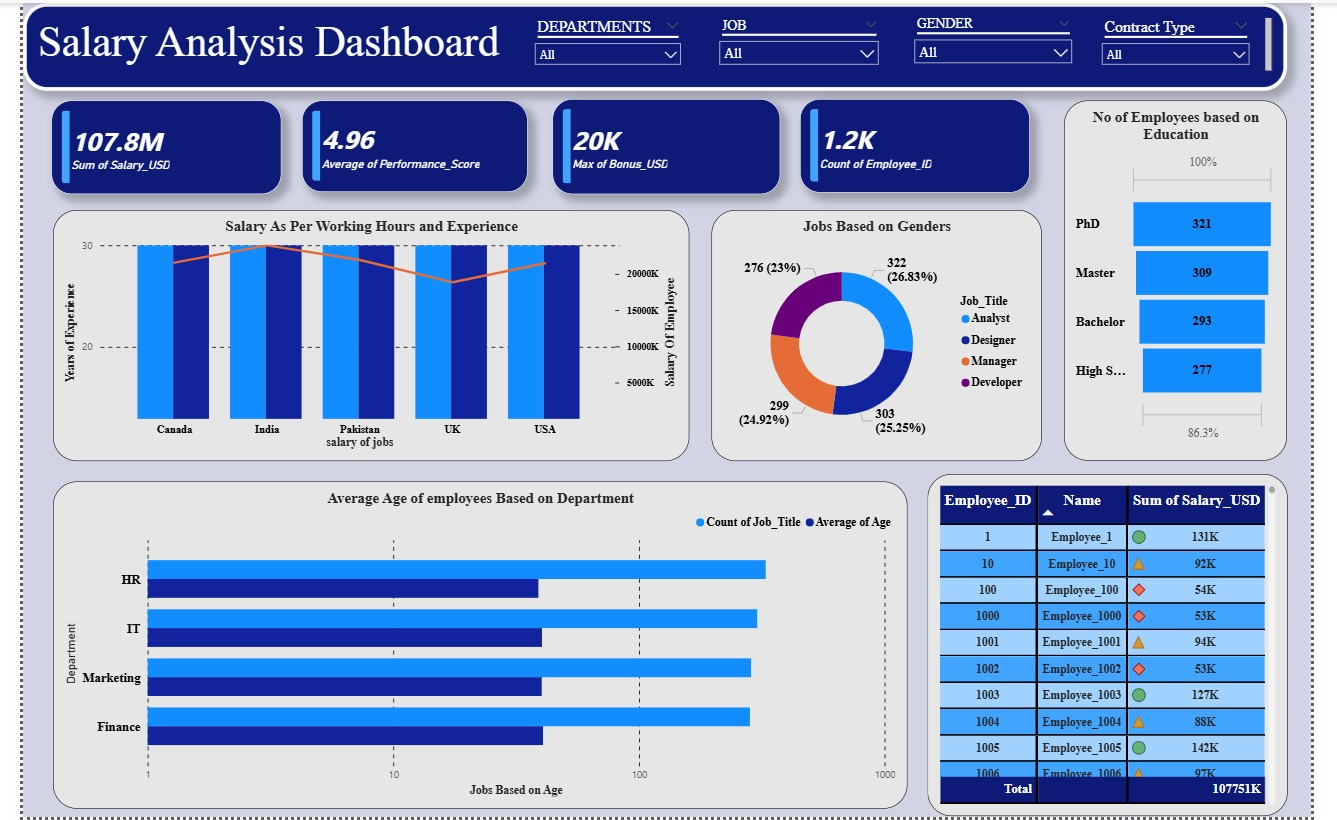

The dashboard page shown, as its layout file describes it:
{"tool":"powerbi","page":{"name":"dashboards","canvas":[1613,1020],"ordinal":0},"visuals":[{"type":"textbox","box":[0,0,1583.9,109.7],"z":0},{"type":"slicer","fields":{"Values":["Salary_Dataset.Department"]},"box":[631.5,12.4,202.9,76.6],"z":1000},{"type":"slicer","fields":{"Values":["Salary_Dataset.Job_Title"]},"box":[863.4,12.4,219.5,76.6],"z":2000},{"type":"lineClusteredColumnComboChart","title":"Salary As Per Working Hours and Experience","fields":{"Category":["Salary_Dataset.Country"],"Y2":["Sum(Salary_Dataset.Salary_USD)"],"Y":["Count(Salary_Dataset.Work_Hours_Per_Week)","CountNonNull(Salary_Dataset.Experience_Years)"]},"box":[37.3,258.8,797.1,314.7],"z":3000},{"type":"slicer","fields":{"Values":["Salary_Dataset.Gender"]},"box":[1107.7,10.4,217.4,76.6],"z":4000},{"type":"donutChart","title":"Jobs Based on Genders","fields":{"Category":["Salary_Dataset.Job_Title"],"Y":["CountNonNull(Salary_Dataset.Gender)"]},"box":[863.4,258.8,414.1,314.7],"z":5000},{"type":"slicer","fields":{"Values":["Salary_Dataset.Contract_Type"]},"box":[1341.6,12.4,205,74.5],"z":6000},{"type":"clusteredBarChart","title":"Average Age of employees Based on Department","fields":{"Y":["CountNonNull(Salary_Dataset.Job_Title)","Avg(Salary_Dataset.Age)"],"Category":["Salary_Dataset.Department"]},"box":[37.3,600.4,1070.4,409.9],"z":8000},{"type":"tableEx","fields":{"Values":["Salary_Dataset.Employee_ID","Salary_Dataset.Name","Sum(Salary_Dataset.Salary_USD)"]},"box":[1132.5,590.1,451.3,428.6],"z":9000},{"type":"cardVisual","title":"Total Salary","fields":{"Data":["Sum(Salary_Dataset.Salary_USD)"]},"box":[36.6,122,287.8,117.1],"z":10000},{"type":"cardVisual","title":"Total Salary","fields":{"Data":["Avg(Salary_Dataset.Performance_Score)"]},"box":[348.8,122,282.9,114.6],"z":12000},{"type":"cardVisual","title":"Total Salary","fields":{"Data":["Max(Salary_Dataset.Bonus_USD)"]},"box":[663.4,119.5,285.4,119.5],"z":13000},{"type":"cardVisual","title":"Total Salary","fields":{"Data":["CountNonNull(Salary_Dataset.Employee_ID)"]},"box":[973.2,119.5,287.8,117.1],"z":14000},{"type":"funnel","title":"No of Employees based on Education","fields":{"Category":["Salary_Dataset.Education"],"Y":["CountNonNull(Salary_Dataset.Employee_ID)"]},"box":[1304.4,122.2,279.5,451.3],"z":15000}]}

Visuals, with their boxes on the page's 1613x1020 design canvas (x1, y1, x2, y2). These are canvas units, not pixel positions in the 1337x820 screenshot, which may show the page scaled, cropped or inside an application window:
textbox: 0/0/1584/110
slicer - Salary_Dataset.Department: 632/12/834/89
slicer - Salary_Dataset.Job_Title: 863/12/1083/89
"Salary As Per Working Hours and Experience" lineClusteredColumnComboChart: 37/259/834/574
slicer - Salary_Dataset.Gender: 1108/10/1325/87
"Jobs Based on Genders" donutChart: 863/259/1278/574
slicer - Salary_Dataset.Contract_Type: 1342/12/1547/87
"Average Age of employees Based on Department" clusteredBarChart: 37/600/1108/1010
tableEx - Salary_Dataset.Employee_ID x Salary_Dataset.Name: 1132/590/1584/1019
"Total Salary" cardVisual: 37/122/324/239
"Total Salary" cardVisual: 349/122/632/237
"Total Salary" cardVisual: 663/120/949/239
"Total Salary" cardVisual: 973/120/1261/237
"No of Employees based on Education" funnel: 1304/122/1584/574
